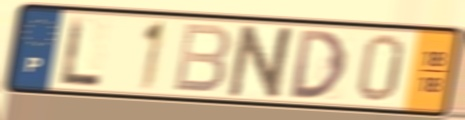0: (353, 32, 406, 105)
1: (138, 18, 173, 95)
B: (170, 21, 234, 96)
D: (288, 28, 349, 101)
L: (59, 14, 104, 89)
N: (223, 22, 301, 102)
